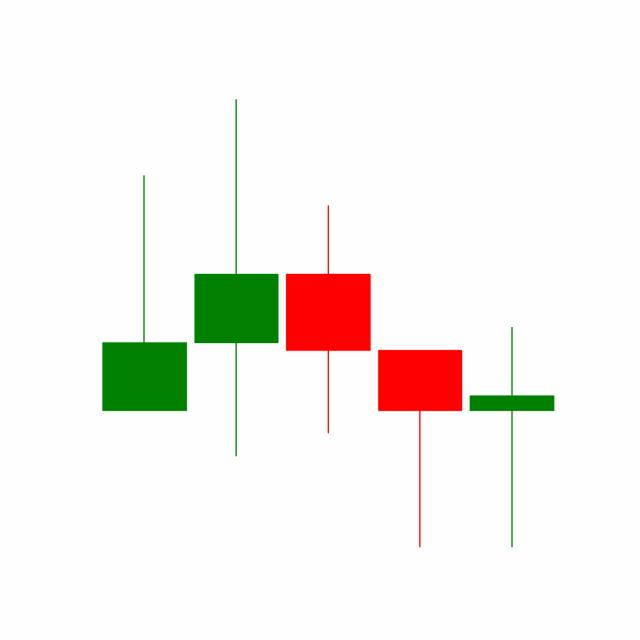Spinning Top: (464, 323, 558, 549)
